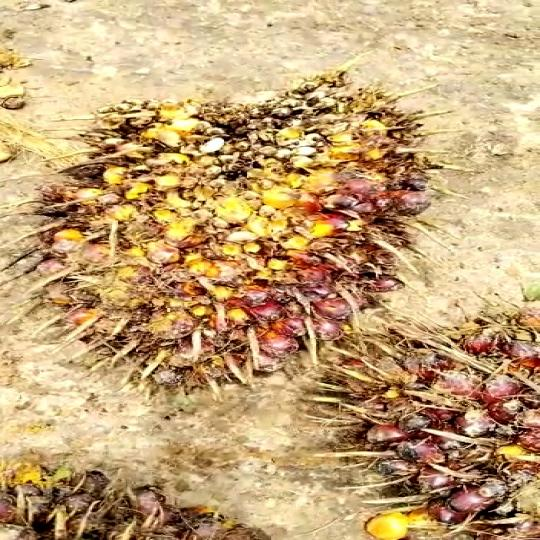masak: (29, 77, 437, 386)
